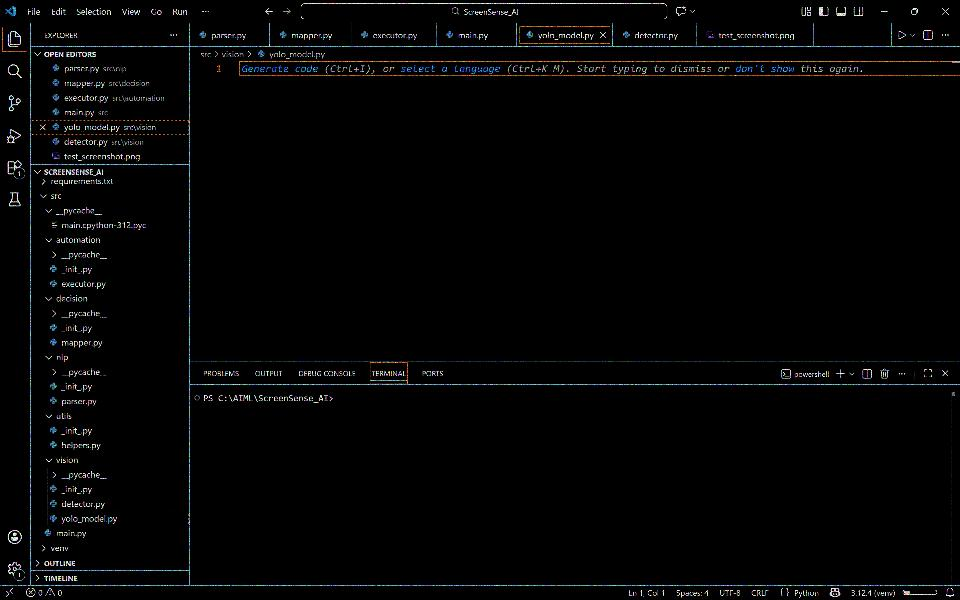close_button: (936, 3, 956, 20)
maximize_button: (906, 2, 925, 18)
minimize_button: (874, 4, 898, 20)
